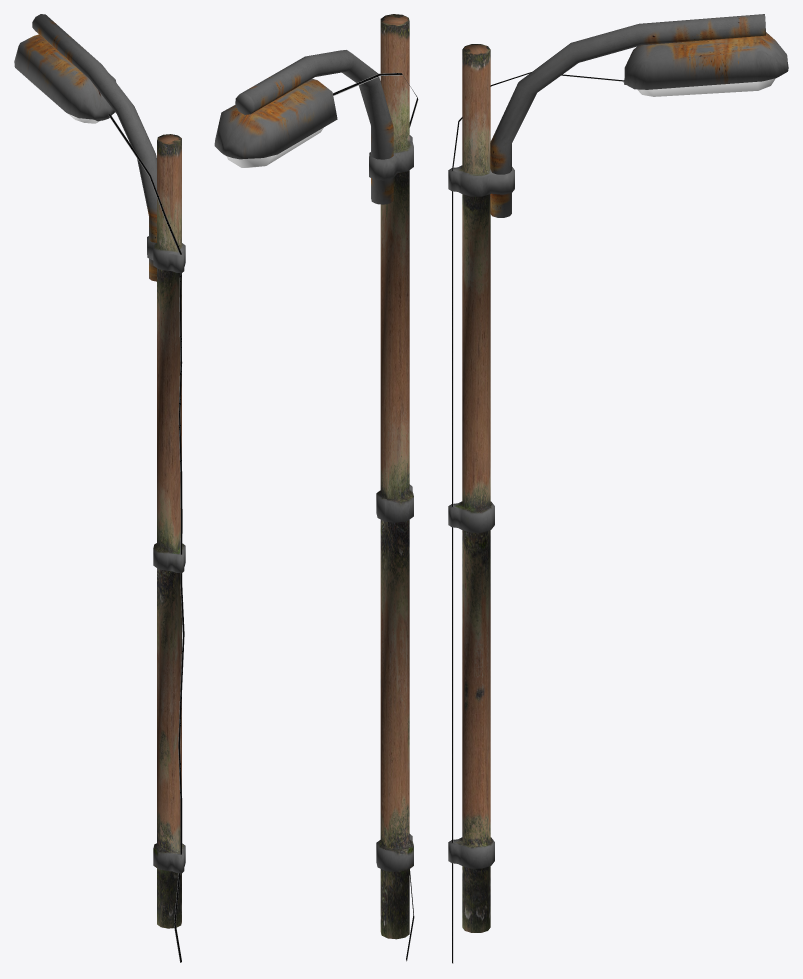
Rendered from lamparasCity.obj.
3 renders of one model, left to right at view 1: azimuth 30°, elevation 25°; view 2: azimuth 150°, elevation 25°; view 3: azimuth 270°, elevation 25°, orthographic. The views are drawn at different scales.
Visible parts, largest first — view 1: Cylinder_Cylinder.001; view 2: Cylinder_Cylinder.001; view 3: Cylinder_Cylinder.001.
Part boxes in pixels (box(x1,y1,x2,y2)): Cylinder_Cylinder.001: box(14, 14, 185, 962); Cylinder_Cylinder.001: box(214, 14, 418, 961); Cylinder_Cylinder.001: box(448, 14, 788, 963).
Size of the model in its own units: 0.4561 by 6.91 by 2.24.
Materials: 1 (1 with a texture image).
